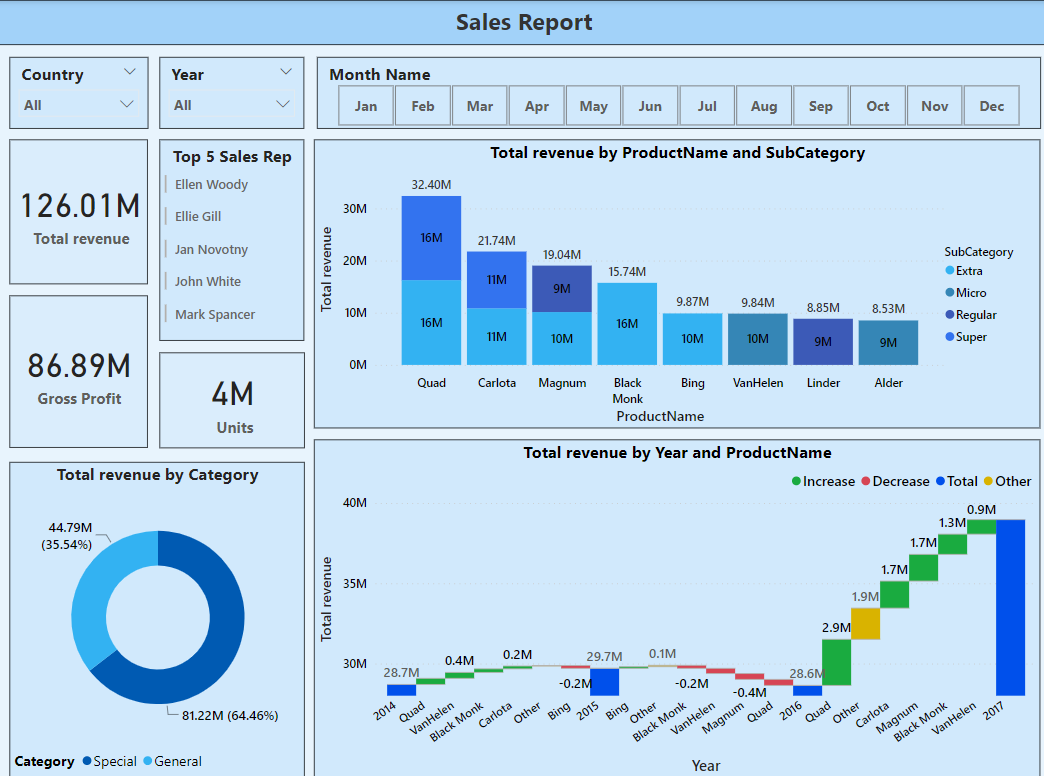

What the dashboard file says about the page in this screenshot:
{"tool":"powerbi","page":{"name":"Page 1","canvas":[1200,900],"ordinal":0},"visuals":[{"type":"textbox","box":[0,0,1199.5,51.3],"z":0},{"type":"slicer","fields":{"Values":["DateMaster.Month Name"]},"box":[363.7,64.5,827,82.1],"z":1000},{"type":"slicer","fields":{"Values":["Geography.Country"]},"box":[11.7,64.5,158.4,82.1],"z":2000},{"type":"slicer","fields":{"Values":["DateMaster.Year"]},"box":[183.7,64.8,165.4,82.1],"z":3000},{"type":"card","fields":{"Values":["Sales.Total revenue"]},"box":[11.9,160,157.8,165.4],"z":4000},{"type":"card","fields":{"Values":["Sales.Units"]},"box":[183.1,403.6,165.7,109.6],"z":5000},{"type":"card","fields":{"Values":["Sales.Gross Profit"]},"box":[11.9,338.3,157.8,174],"z":6000},{"type":"donutChart","fields":{"Y":["Sales.Total revenue"],"Category":["Categories.Category"]},"box":[11.7,527.9,337.3,360.7],"z":7000},{"type":"multiRowCard","title":"Top 5 Sales Rep","fields":{"Values":["Sales rep.Sales Rep Name"]},"box":[183.7,160,165.4,230.2],"z":8000},{"type":"waterfallChart","fields":{"Y":["Sales.Total revenue"],"Breakdown":["Product.ProductName"],"Category":["DateMaster.Year"]},"box":[360.7,501.5,830,387.1],"z":9000},{"type":"columnChart","fields":{"Category":["Product.ProductName"],"Series":["Sub categories.SubCategory Name"],"Y":["Sales.Total revenue"]},"box":[360.7,159.8,830,329.9],"z":10000}]}

Visuals, with their boxes in screenshot pixels (x1, y1, x2, y2), scaled from the page's 1200x900 canvas onto the 1044x776 screenshot:
textbox: 0,0,1043,44
slicer - DateMaster.Month Name: 316,56,1036,126
slicer - Geography.Country: 10,56,148,126
slicer - DateMaster.Year: 160,56,304,127
card - Sales.Total revenue: 10,138,148,281
card - Sales.Units: 159,348,303,442
card - Sales.Gross Profit: 10,292,148,442
donutChart - Sales.Total revenue x Categories.Category: 10,455,304,766
"Top 5 Sales Rep" multiRowCard: 160,138,304,336
waterfallChart - Sales.Total revenue x Product.ProductName: 314,432,1036,766
columnChart - Product.ProductName x Sub categories.SubCategory Name: 314,138,1036,422
